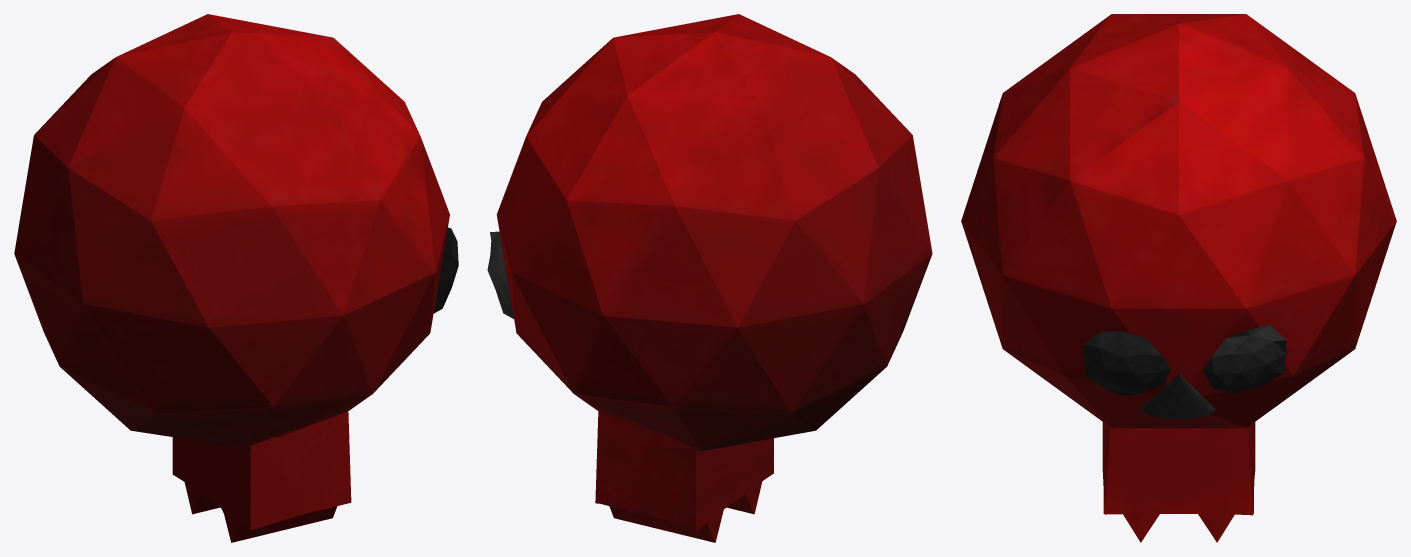
File: redmask3.dae
3 renders of one model, left to right at view 1: azimuth 30°, elevation 25°; view 2: azimuth 150°, elevation 25°; view 3: azimuth 270°, elevation 25°, orthographic. The views are drawn at different scales.
Visible parts, largest first — view 1: Cube; view 2: Cube; view 3: Cube.
Part boxes in pixels (<box>): Cube: <box>14,14,458,542</box>; Cube: <box>487,14,932,542</box>; Cube: <box>961,14,1396,542</box>.
Bounding box in the file's own units: 0.2103 × 0.2155 × 0.2622.
Materials: 1 (1 with a texture image).
